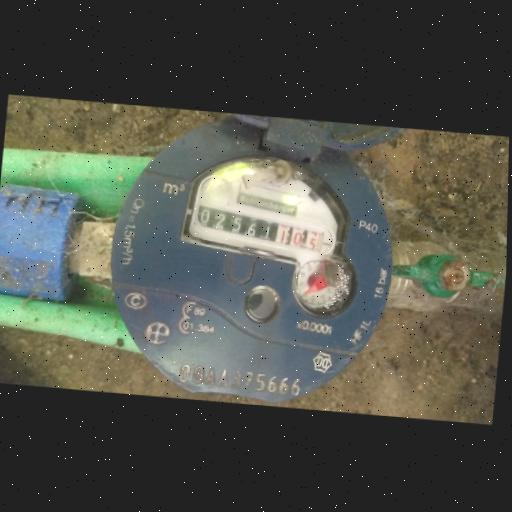0: (195, 205, 214, 228), (289, 226, 307, 247)
1: (256, 219, 278, 241), (273, 224, 293, 245)
2: (209, 208, 230, 231)
5: (227, 212, 246, 235), (302, 230, 322, 251)
6: (242, 216, 261, 238)
border_water_meter_number: (190, 198, 337, 258)
